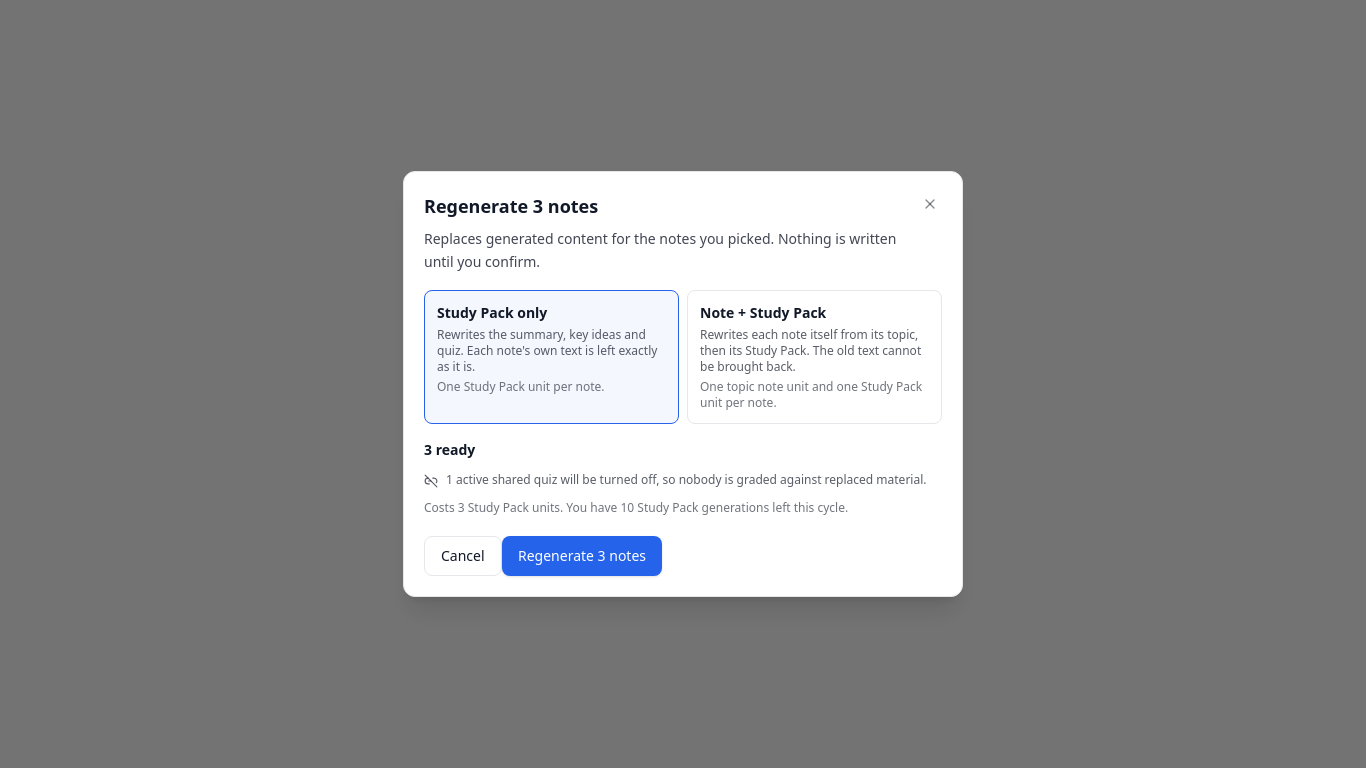
Test: BulkRegenerateModal › offers no retry when nothing failed
Click the button "Regenerate 3 notes" at {"x": 582, "y": 556}, box 502,536 -> 662,576
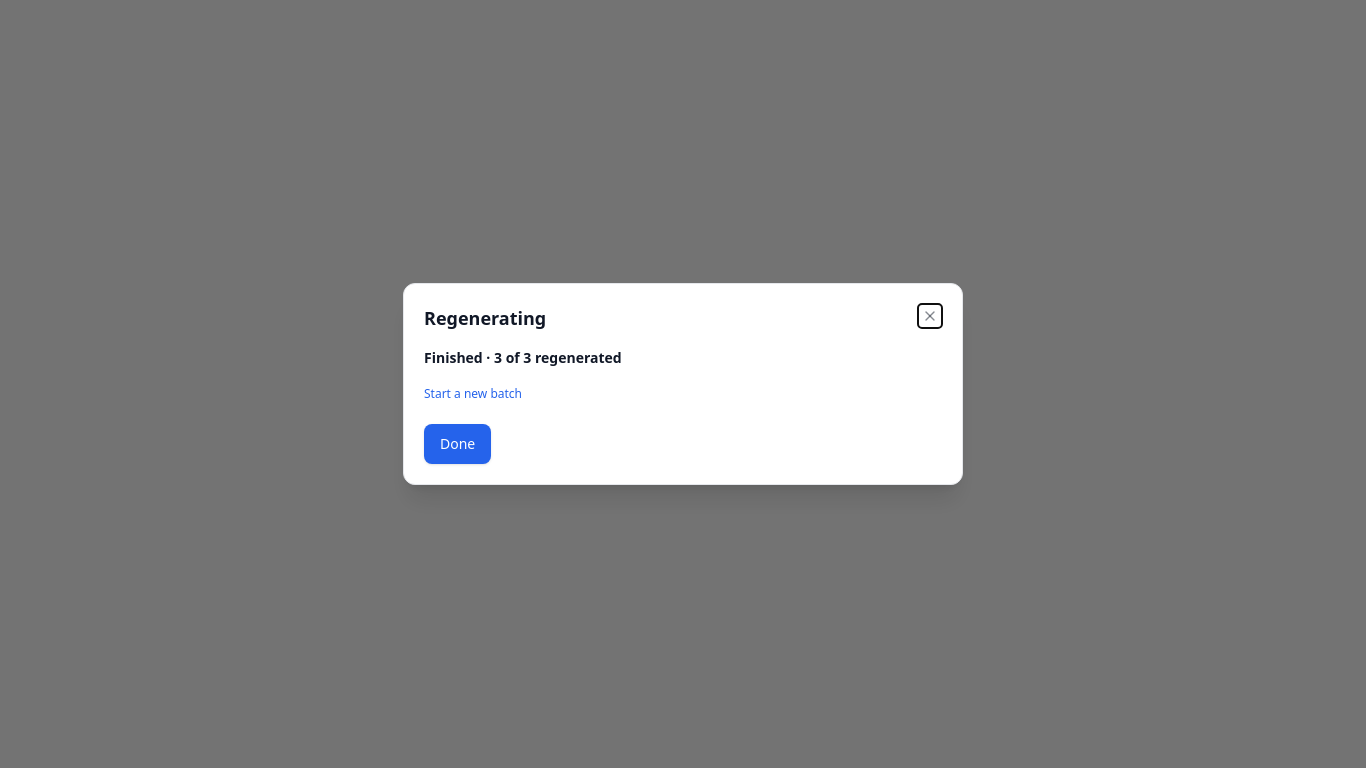
Check: the text "Finished · 3 of 3 regenerated" is shown, box 424,348 -> 622,367
